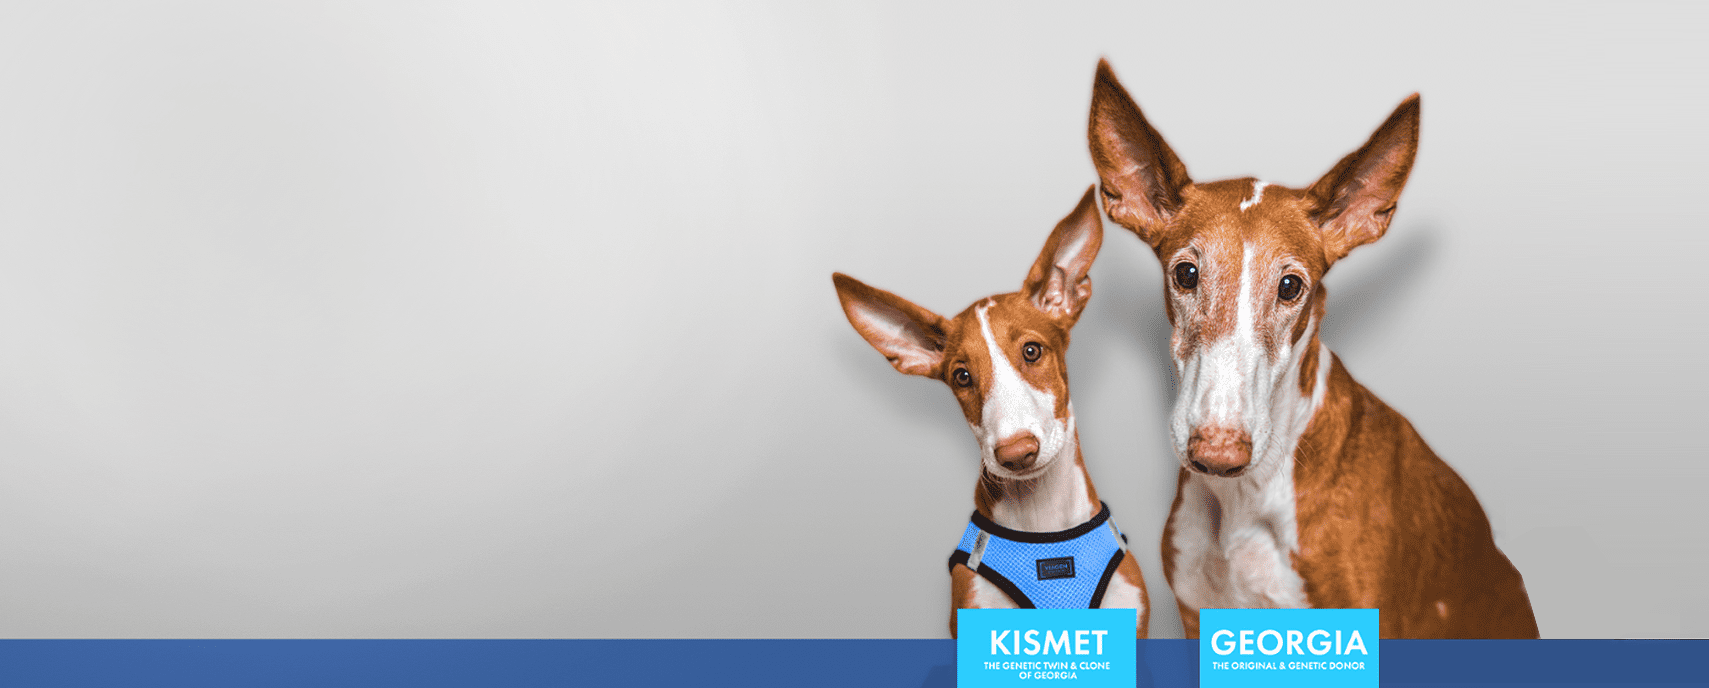pet: (1146, 114, 1410, 688)
